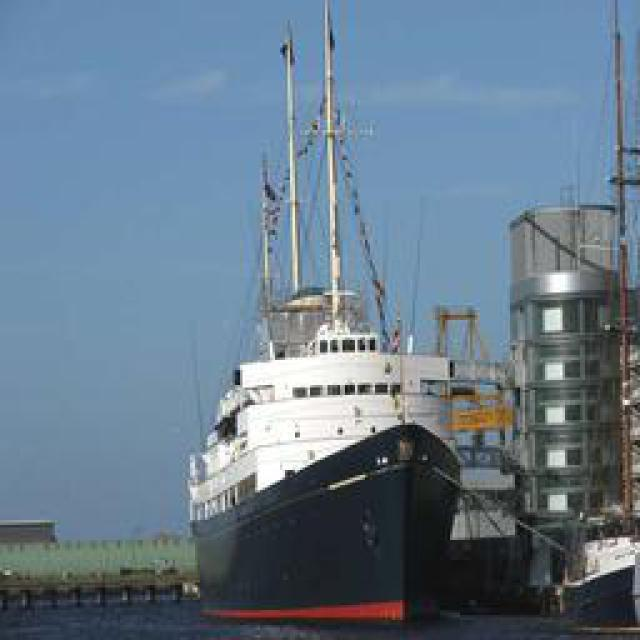Ship: (205, 1, 558, 626)
